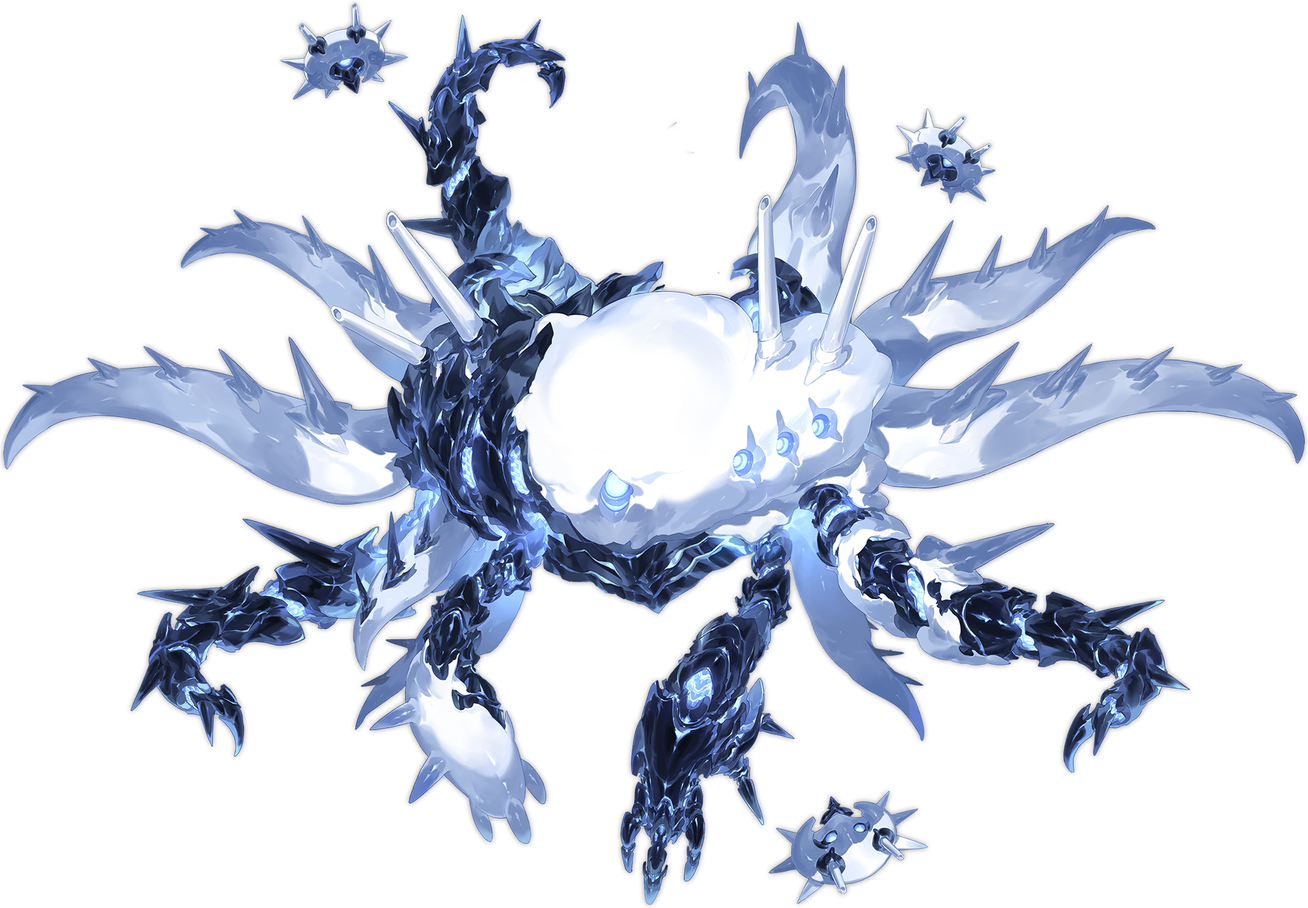person: (10, 3, 1282, 907)
